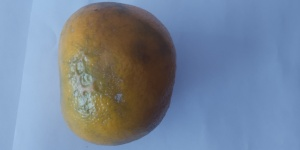BAD: (59, 3, 178, 145)
